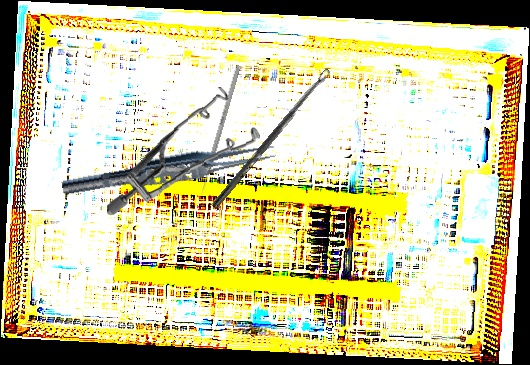Pusher: (197, 67, 241, 200)
Speculum: (99, 84, 265, 216)
Surgical Spoon: (210, 67, 333, 211)
Tissue Forceps: (60, 134, 278, 206)
